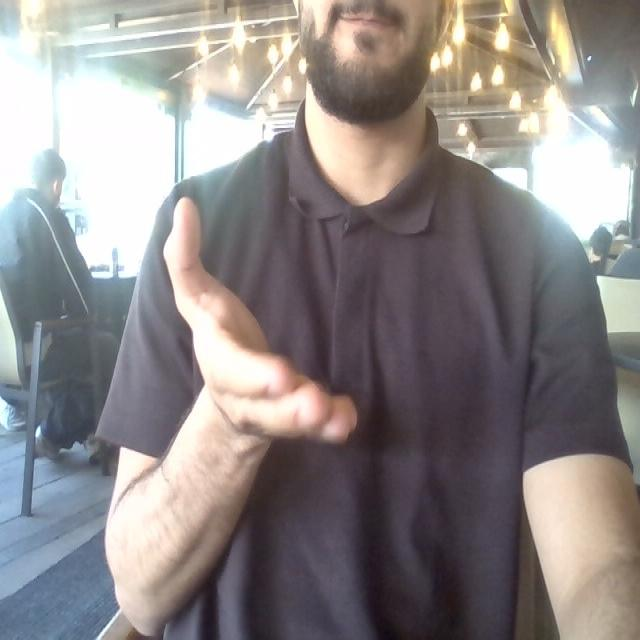Hand: (164, 198, 356, 441)
